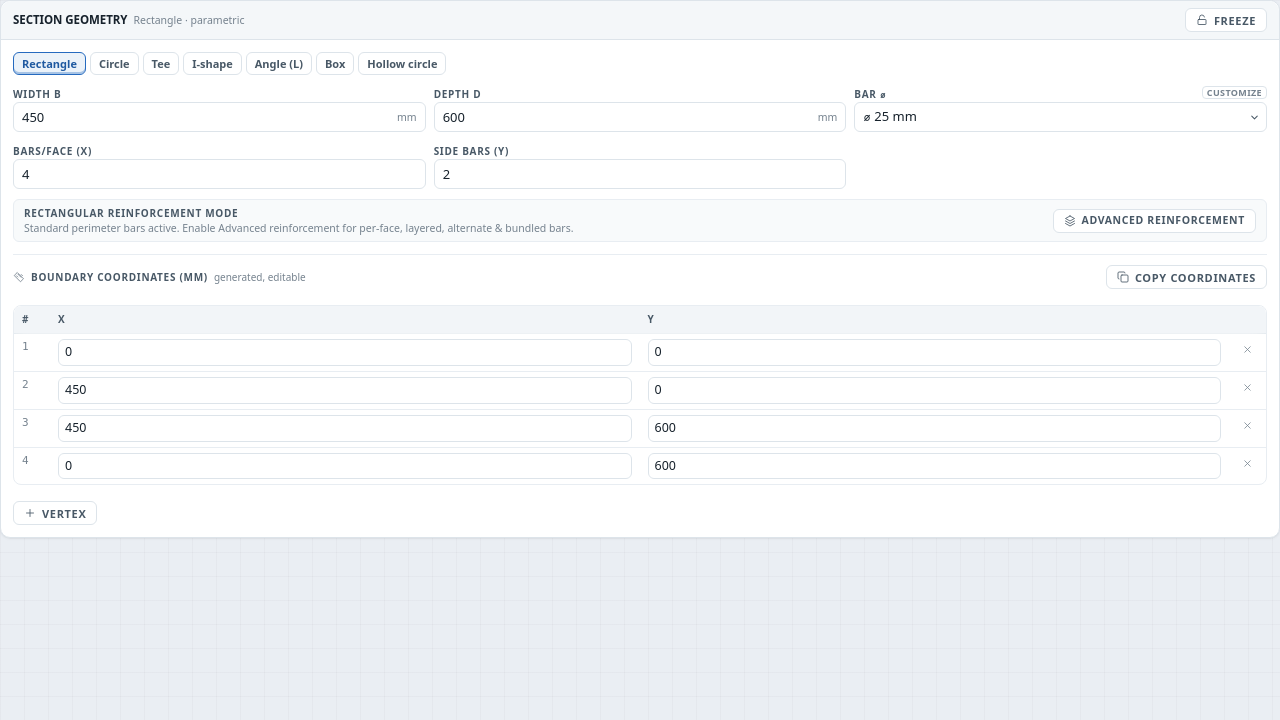
Section Geometry & Advanced Reinforcement UI alignment › aligns Width B, Depth D, Bar ⌀ (standard & custom), Bars/face (x), and Side bars (y) across Section Geometry
Click the button "Customize". click: click(1234, 92)
box: [1202,86,1267,99]
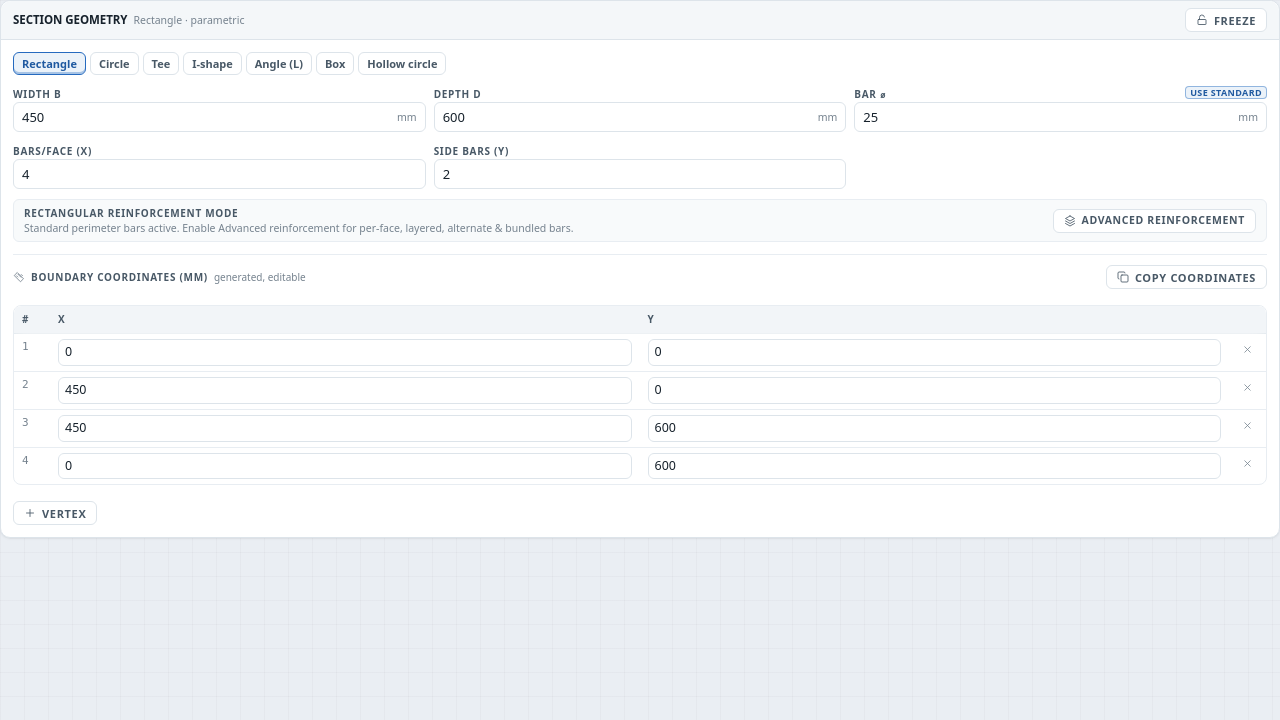
Now the button "Use standard" is shown, box [1185,86,1267,99]
